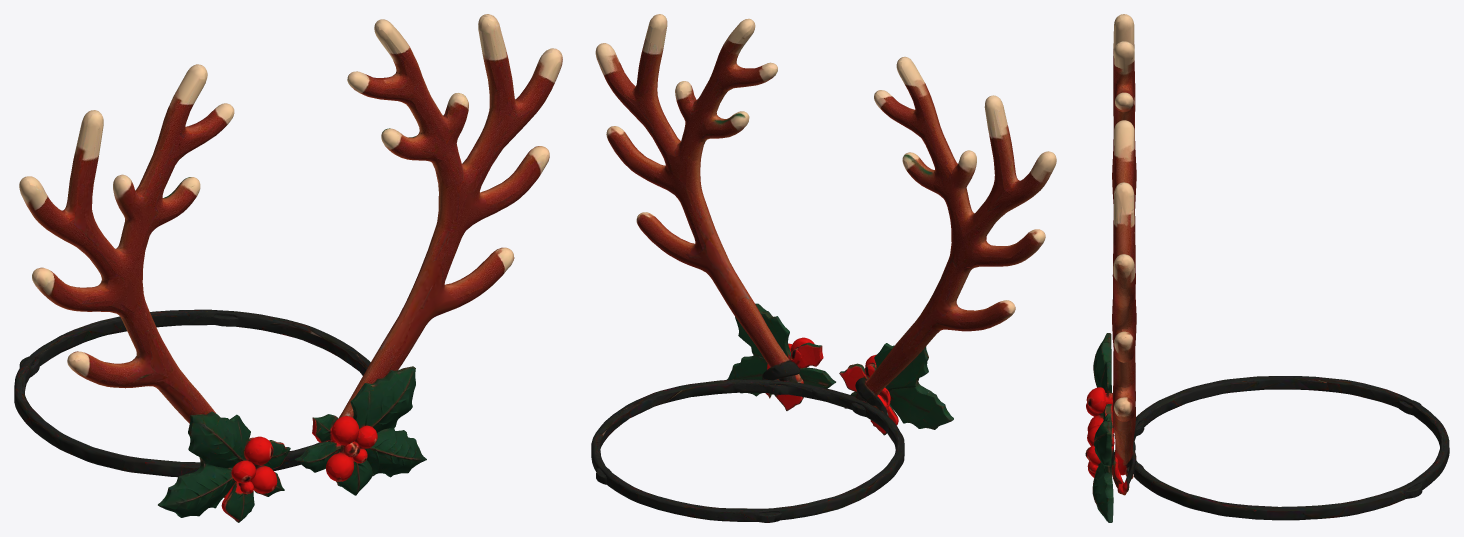
Rendered from reindeer-antlers.glb.
3 renders of one model, left to right at view 1: azimuth 30°, elevation 25°; view 2: azimuth 150°, elevation 25°; view 3: azimuth 270°, elevation 25°, orthographic. The views are drawn at different scales.
Bounding box in the file's own units: 5.7 × 4.63 × 3.8.
Materials: 1 (1 with a texture image).
